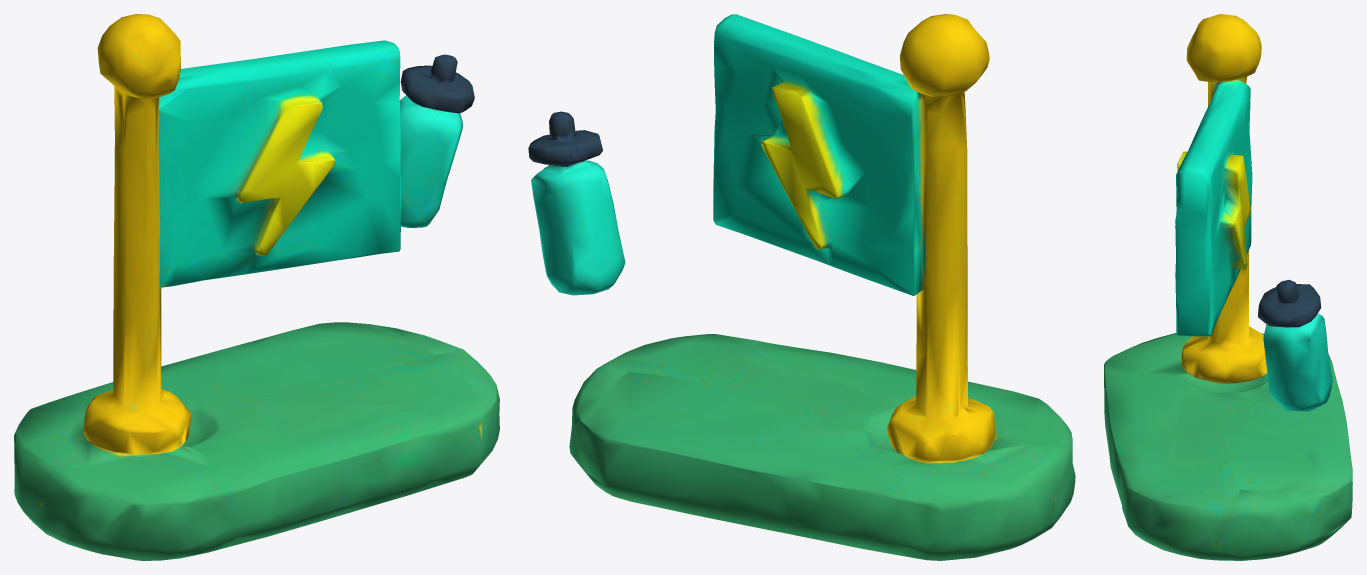
Rendered from flag.glb.
3 views of the same model, side by side, from view 1: azimuth 30°, elevation 25°; view 2: azimuth 150°, elevation 25°; view 3: azimuth 270°, elevation 25° (orthographic). The views are drawn at different scales.
Parts seen in each view (by area): view 1: tripo_node_ede416ab-1cff-458a-bb15-ecebc10a902c; view 2: tripo_node_ede416ab-1cff-458a-bb15-ecebc10a902c; view 3: tripo_node_ede416ab-1cff-458a-bb15-ecebc10a902c.
Boxes of the visible parts, <box> form: tripo_node_ede416ab-1cff-458a-bb15-ecebc10a902c: <box>14,14,499,560</box>; tripo_node_ede416ab-1cff-458a-bb15-ecebc10a902c: <box>528,14,1075,560</box>; tripo_node_ede416ab-1cff-458a-bb15-ecebc10a902c: <box>1104,14,1352,560</box>.
Size of the model in its own units: 1.01 by 1 by 0.5475.
Materials: 1 (1 with a texture image).
